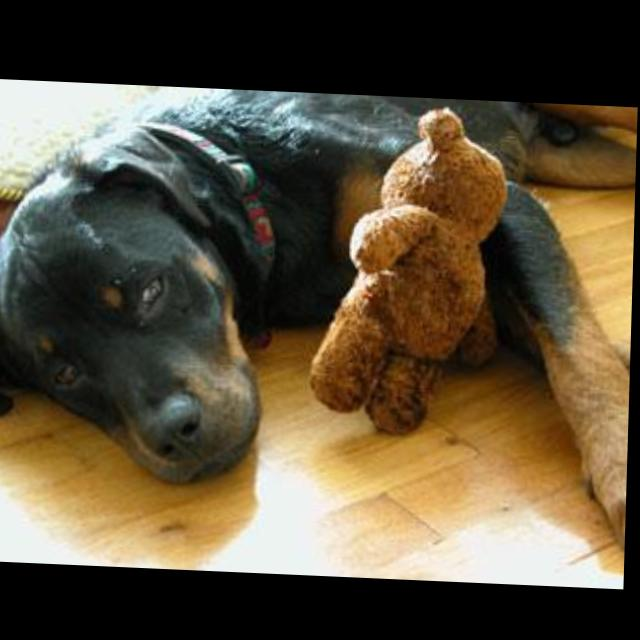rottweiler: (1, 81, 639, 552)
